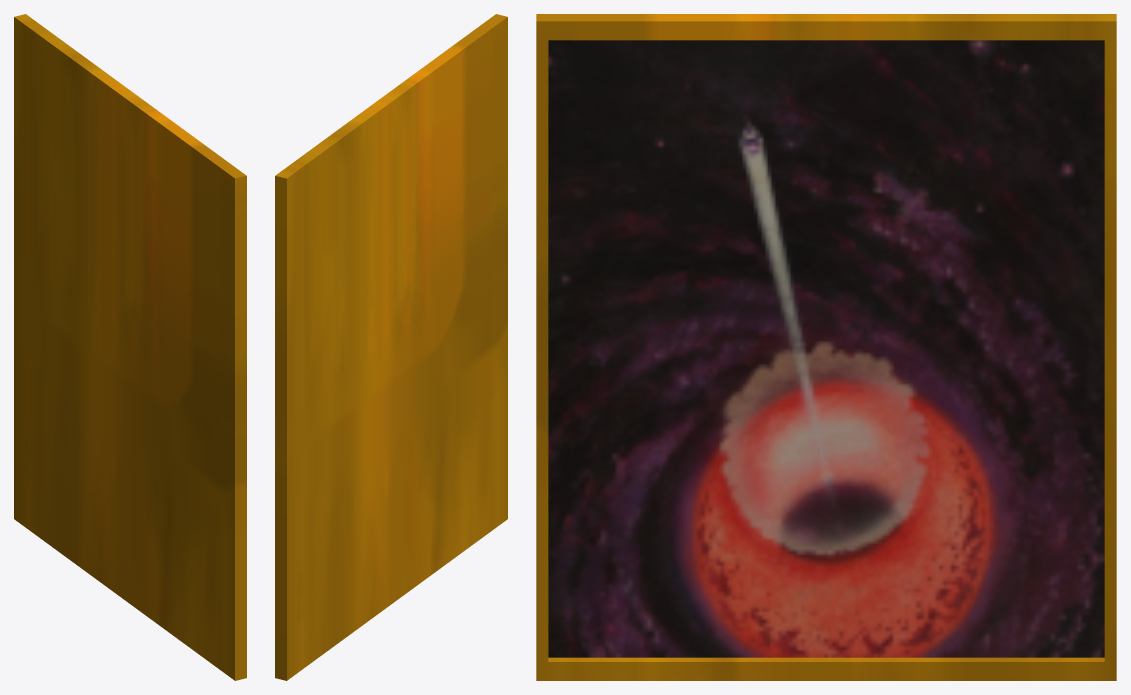
Rendered from obj_Pictureframe_Sandmann_003.obj.
3 views of the same model, side by side, from view 1: azimuth 30°, elevation 25°; view 2: azimuth 150°, elevation 25°; view 3: azimuth 270°, elevation 25° (orthographic). The views are drawn at different scales.
Parts seen in each view (by area): view 1: obj_Pictureframe_Sandmann.003; view 2: obj_Pictureframe_Sandmann.003; view 3: obj_Pictureframe_Sandmann.003.
Part boxes in pixels (x1,y1,x2,y2): obj_Pictureframe_Sandmann.003: (14, 14, 246, 680); obj_Pictureframe_Sandmann.003: (275, 14, 507, 680); obj_Pictureframe_Sandmann.003: (536, 14, 1116, 680).
Size of the model in its own units: 0.0198 by 0.8144 by 0.6494.
